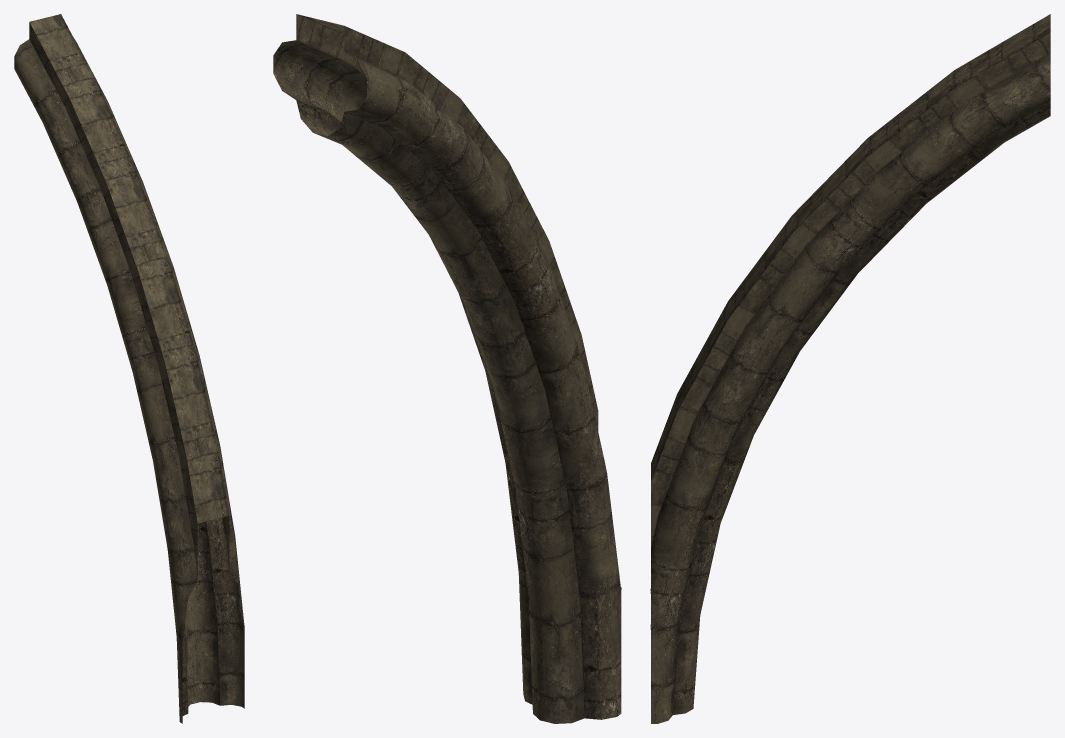
The model's file is NC_arch_half.DAE.
The picture shows the model from 3 angles, left to right: view 1: azimuth 30°, elevation 25°; view 2: azimuth 150°, elevation 25°; view 3: azimuth 270°, elevation 25°; orthographic projection. The views are drawn at different scales.
Visible parts, largest first — view 1: NC_arch_half; view 2: NC_arch_half; view 3: NC_arch_half.
Part boxes in pixels (x1,y1,x2,y2): NC_arch_half: [14, 14, 244, 723]; NC_arch_half: [273, 14, 621, 723]; NC_arch_half: [650, 14, 1050, 723].
Bounding box in the file's own units: 0.5853 × 2.75 × 5.18.
